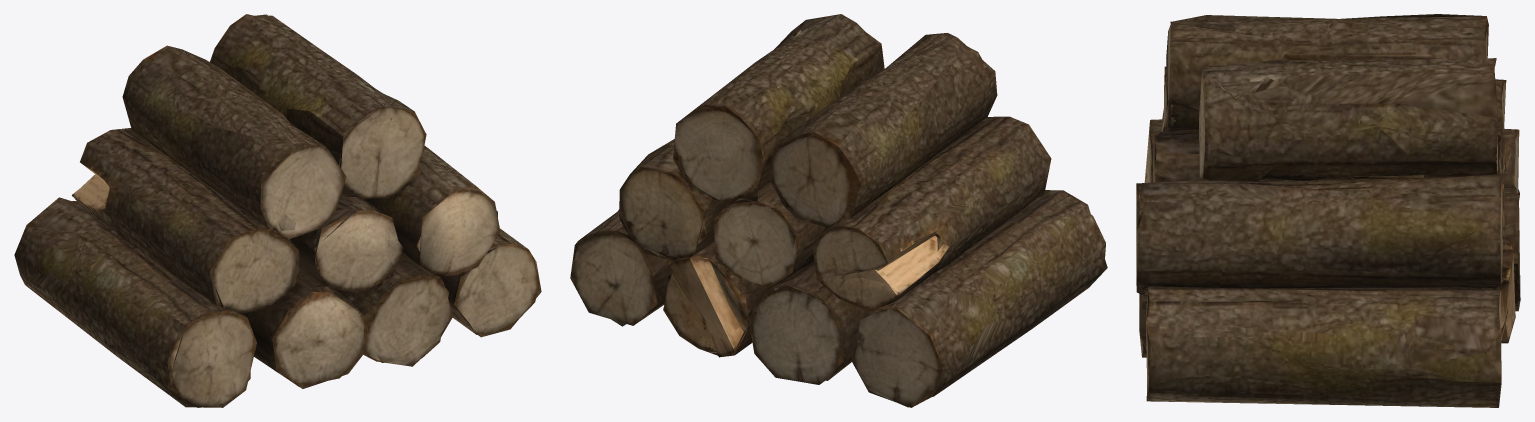
The picture shows the model from 3 angles, left to right: view 1: azimuth 30°, elevation 25°; view 2: azimuth 150°, elevation 25°; view 3: azimuth 270°, elevation 25°; orthographic projection. The views are drawn at different scales.
Parts seen in each view (by area): view 1: firewood-pile.001; view 2: firewood-pile.001; view 3: firewood-pile.001.
Part boxes in pixels (bbox=[...]): firewood-pile.001: bbox=[14, 14, 541, 407]; firewood-pile.001: bbox=[570, 14, 1107, 407]; firewood-pile.001: bbox=[1136, 14, 1520, 407].
Bounding box in the file's own units: 1.13 × 0.7013 × 0.8407.
1 material, 1 textured.
